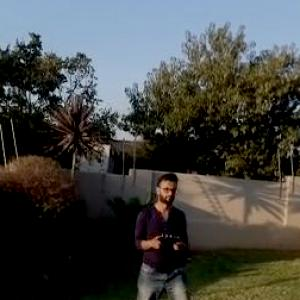follow: (123, 169, 201, 299)
